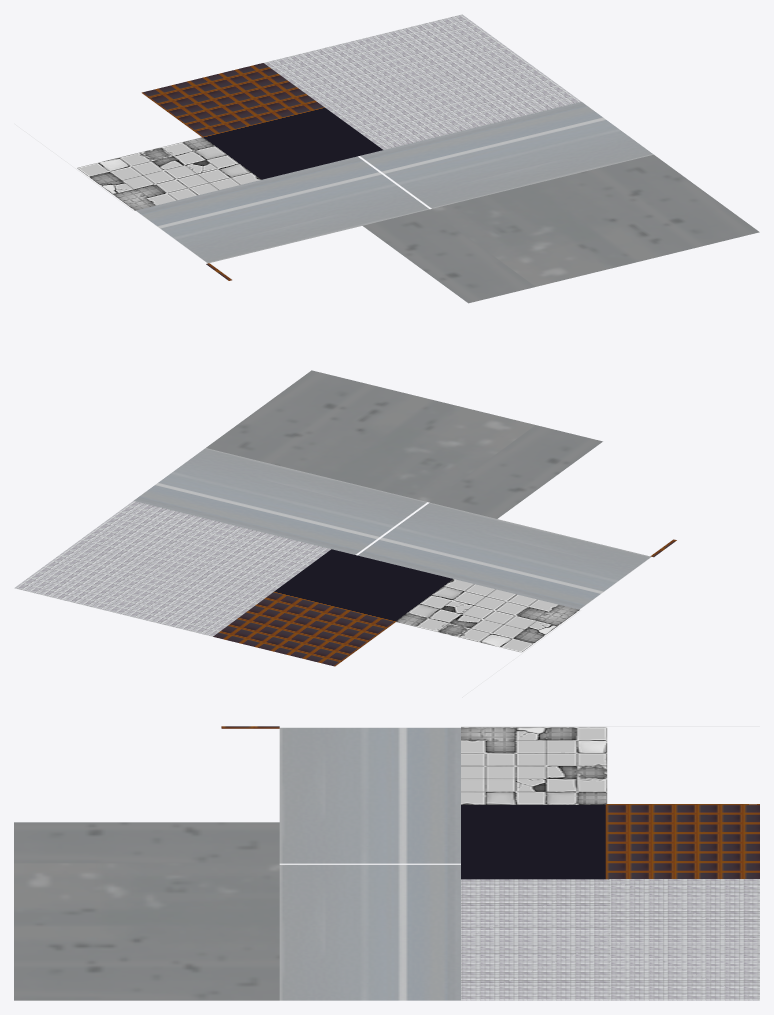
Rendered from SM_SolMall.fbx.
The picture shows the model from 3 angles, top to bottom: view 1: azimuth 30°, elevation 25°; view 2: azimuth 150°, elevation 25°; view 3: azimuth 270°, elevation 25°; orthographic projection. The views are drawn at different scales.
Parts seen in each view (by area): view 1: SolMall; view 2: SolMall; view 3: SolMall.
Part boxes in pixels (left/top/right/bottom): SolMall: left=14, top=14, right=759, bottom=303; SolMall: left=14, top=370, right=676, bottom=697; SolMall: left=14, top=726, right=759, bottom=1000.
Size of the model in its own units: 10650 by 12250 by 0.
1 material, 1 textured.
